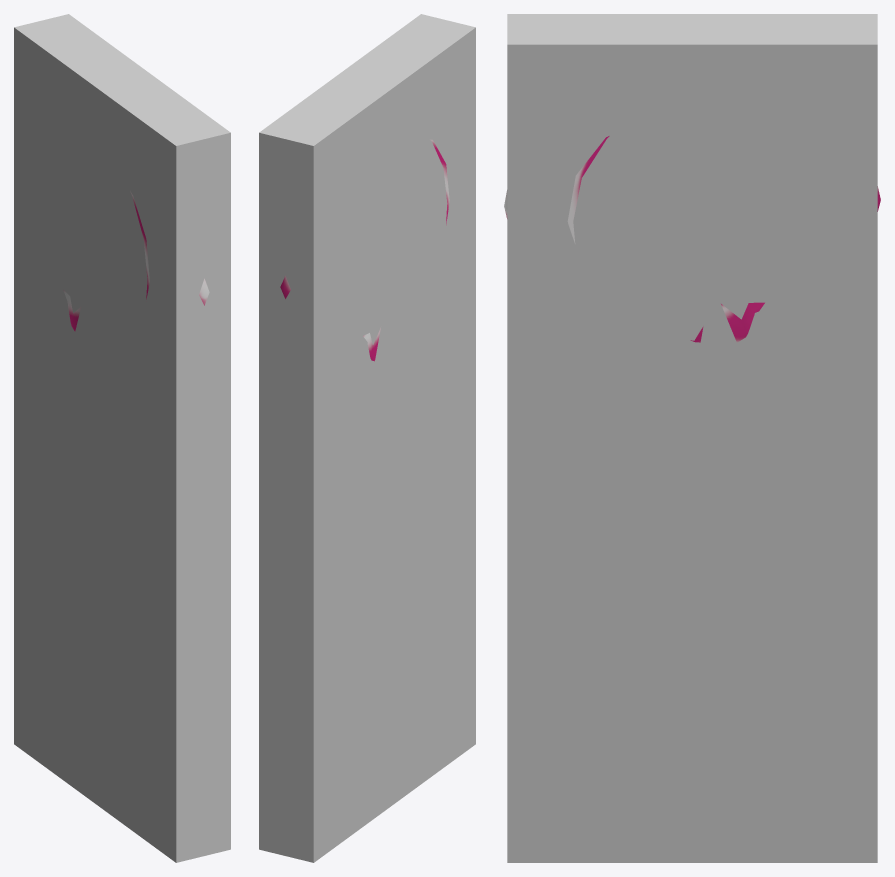
The model's file is candy.gltf.
The picture shows the model from 3 angles, left to right: view 1: azimuth 30°, elevation 25°; view 2: azimuth 150°, elevation 25°; view 3: azimuth 270°, elevation 25°; orthographic projection. The views are drawn at different scales.
Parts seen in each view (by area): view 1: COL, PM3D_Circle3D1_1; view 2: COL, PM3D_Circle3D1_1; view 3: COL, PM3D_Circle3D1_1.
Boxes of the visible parts, x1,y1,x2,y2 form: COL: (14, 14, 230, 862); PM3D_Circle3D1_1: (63, 191, 209, 331); COL: (259, 14, 475, 862); PM3D_Circle3D1_1: (280, 139, 449, 361); COL: (507, 14, 877, 862); PM3D_Circle3D1_1: (504, 136, 880, 342).
Bounding box in the file's own units: 0.1647 × 2 × 0.8346.
Materials: 1 (1 with a texture image).
